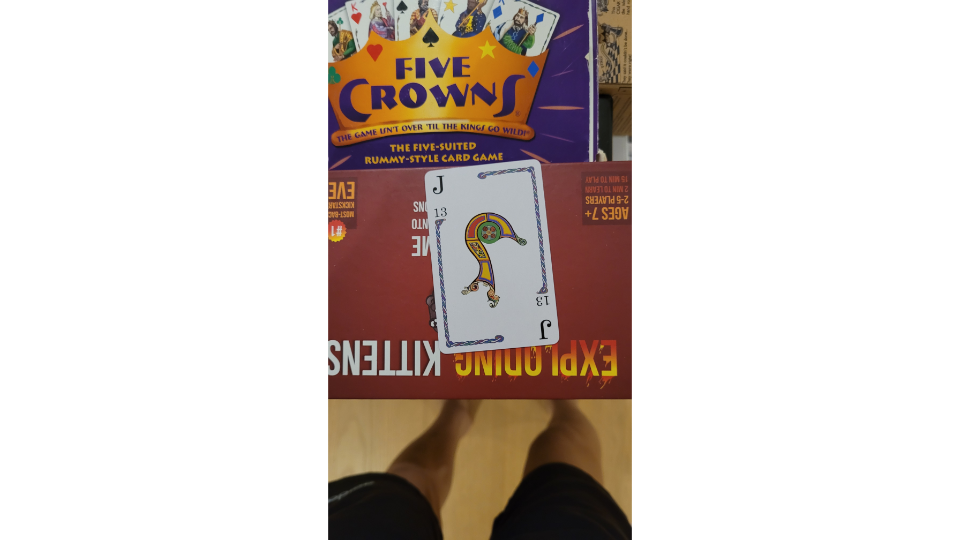J: (423, 157, 564, 355)
